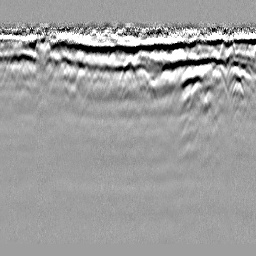cavity: (117, 54, 138, 85)
